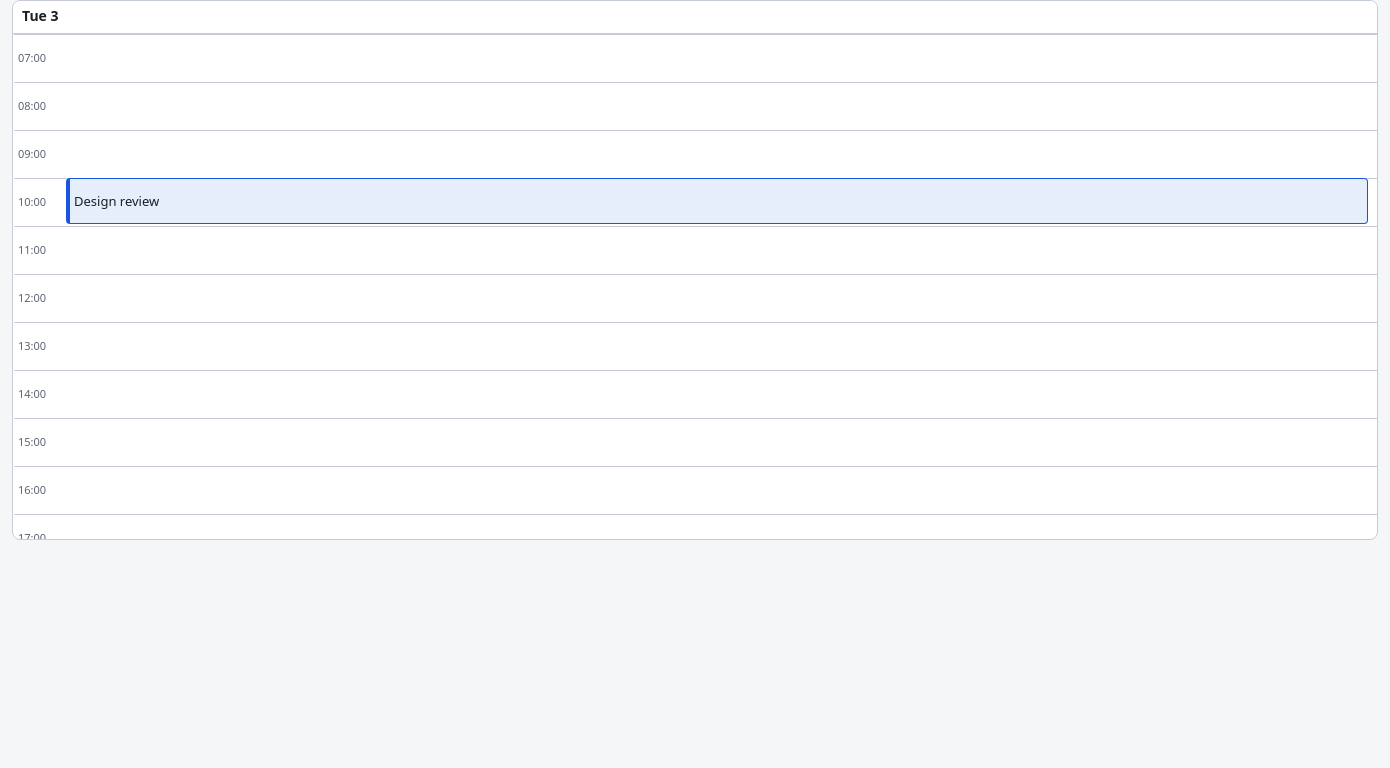
Test: Calendar: dragging an event › puts the box back and says so when the server refuses the move
(page scrolled)
Press the mouse on the button with aria-label "Design review," at {"x": 117, "y": 201}, box [66,178,1368,224]
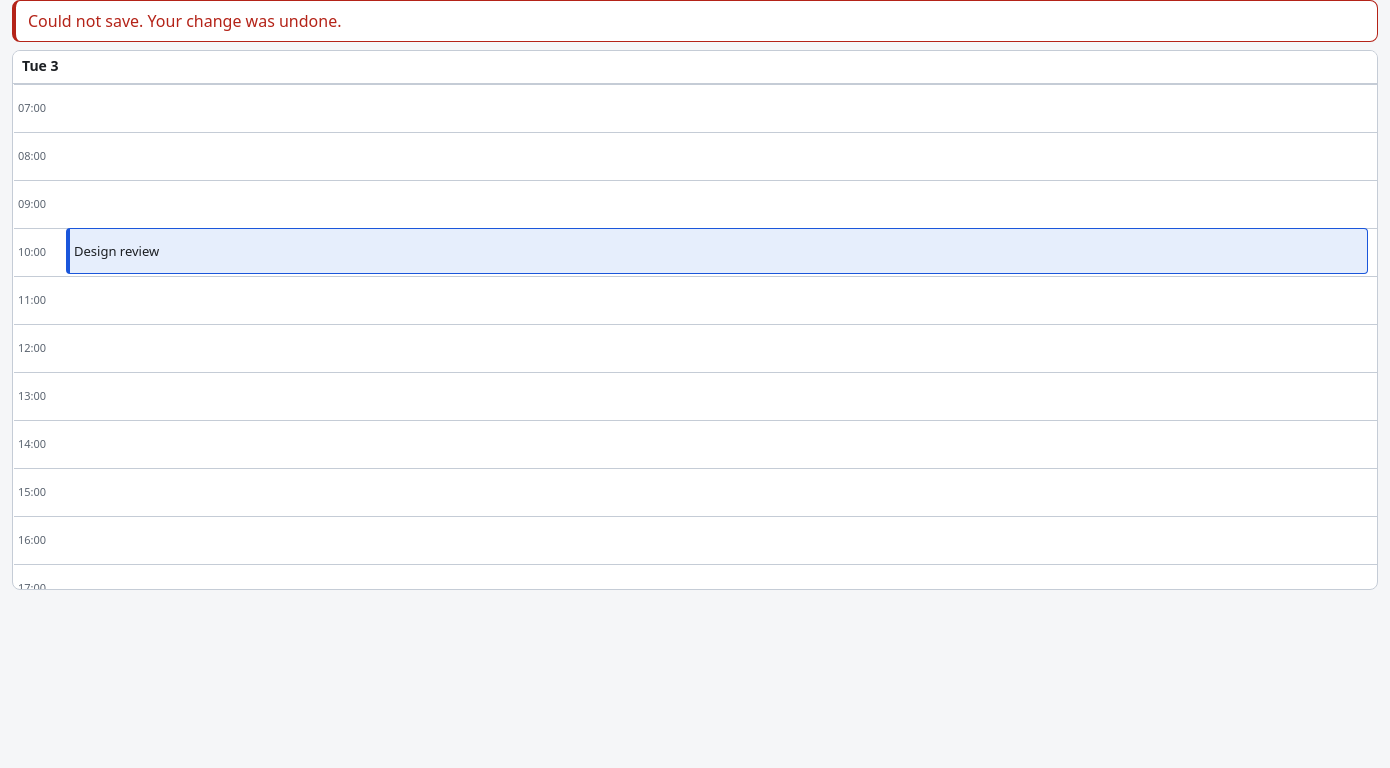
Expected: the message reads "Could not save. Your change was undone.", [28,10,342,32]
